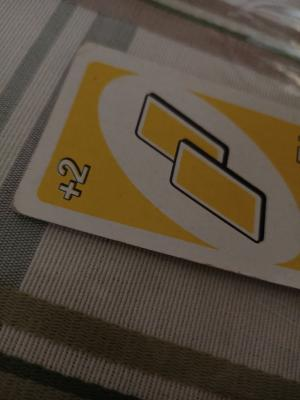-2: (52, 155, 108, 220)
yellow: (127, 86, 272, 255)
